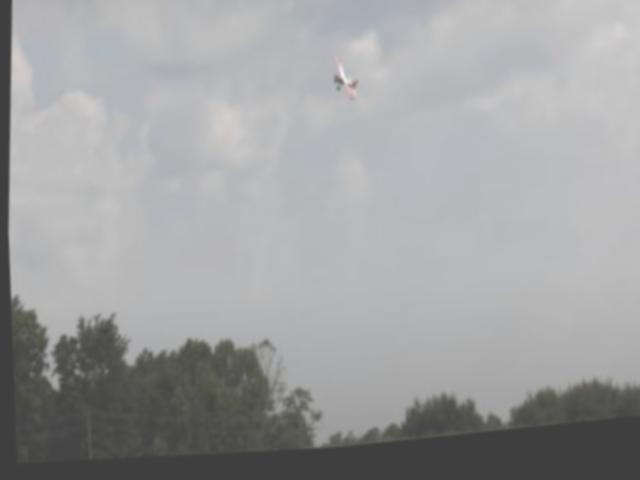uav: (323, 56, 362, 117)
